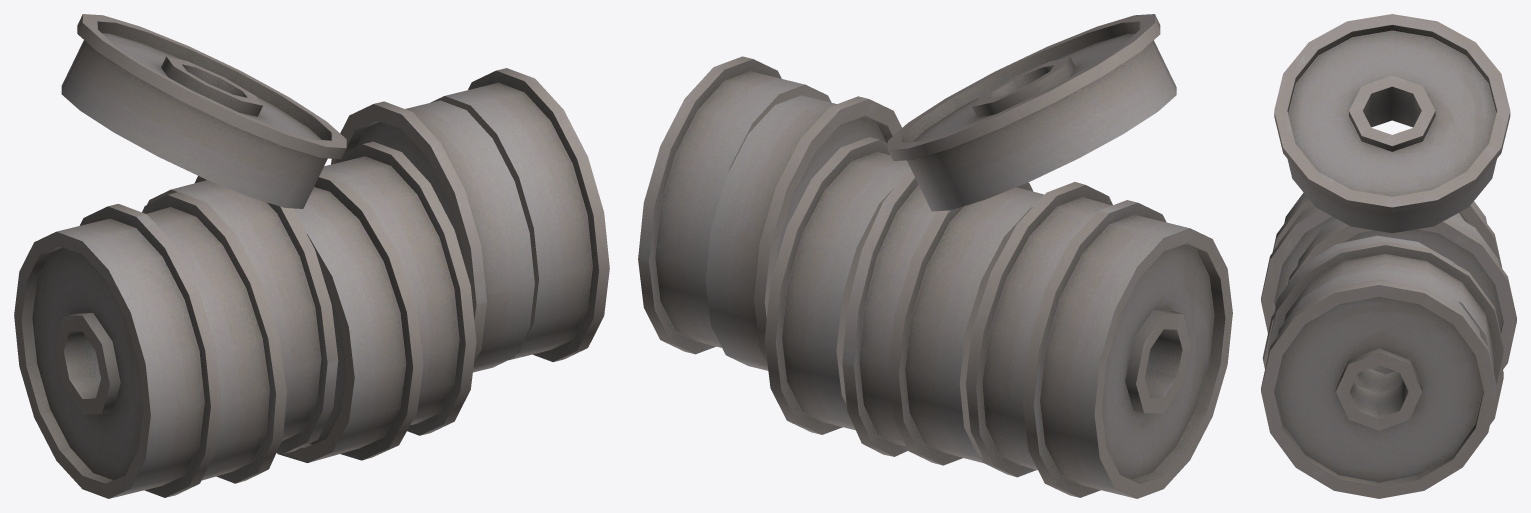
The model's file is props_2fort_trainwheel003.glb.
The picture shows the model from 3 angles, left to right: view 1: azimuth 30°, elevation 25°; view 2: azimuth 150°, elevation 25°; view 3: azimuth 270°, elevation 25°; orthographic projection. The views are drawn at different scales.
Parts seen in each view (by area): view 1: models/props_2fort/trainwheel003; view 2: models/props_2fort/trainwheel003; view 3: models/props_2fort/trainwheel003.
Part boxes in pixels (x1=…): models/props_2fort/trainwheel003: x1=14, y1=14, x2=609, y2=498; models/props_2fort/trainwheel003: x1=638, y1=14, x2=1232, y2=498; models/props_2fort/trainwheel003: x1=1261, y1=14, x2=1516, y2=498.
Bounding box in the file's own units: 62.5 × 61 × 39.
1 material, 1 textured.
